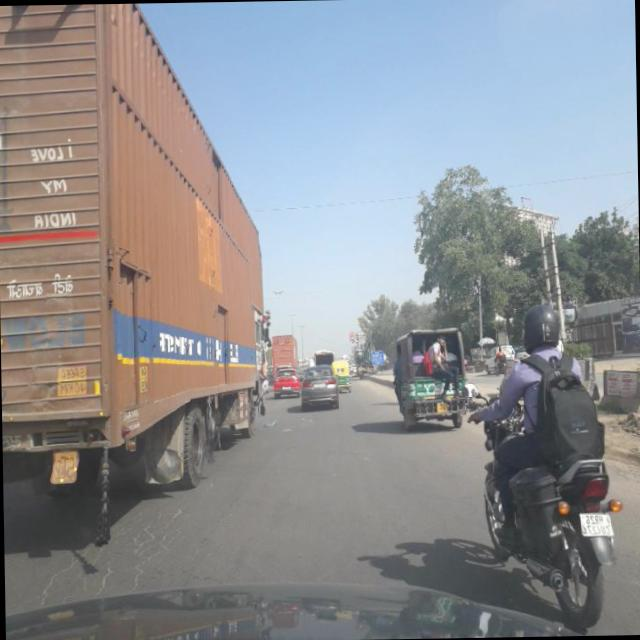crack: (30, 498, 187, 601)
